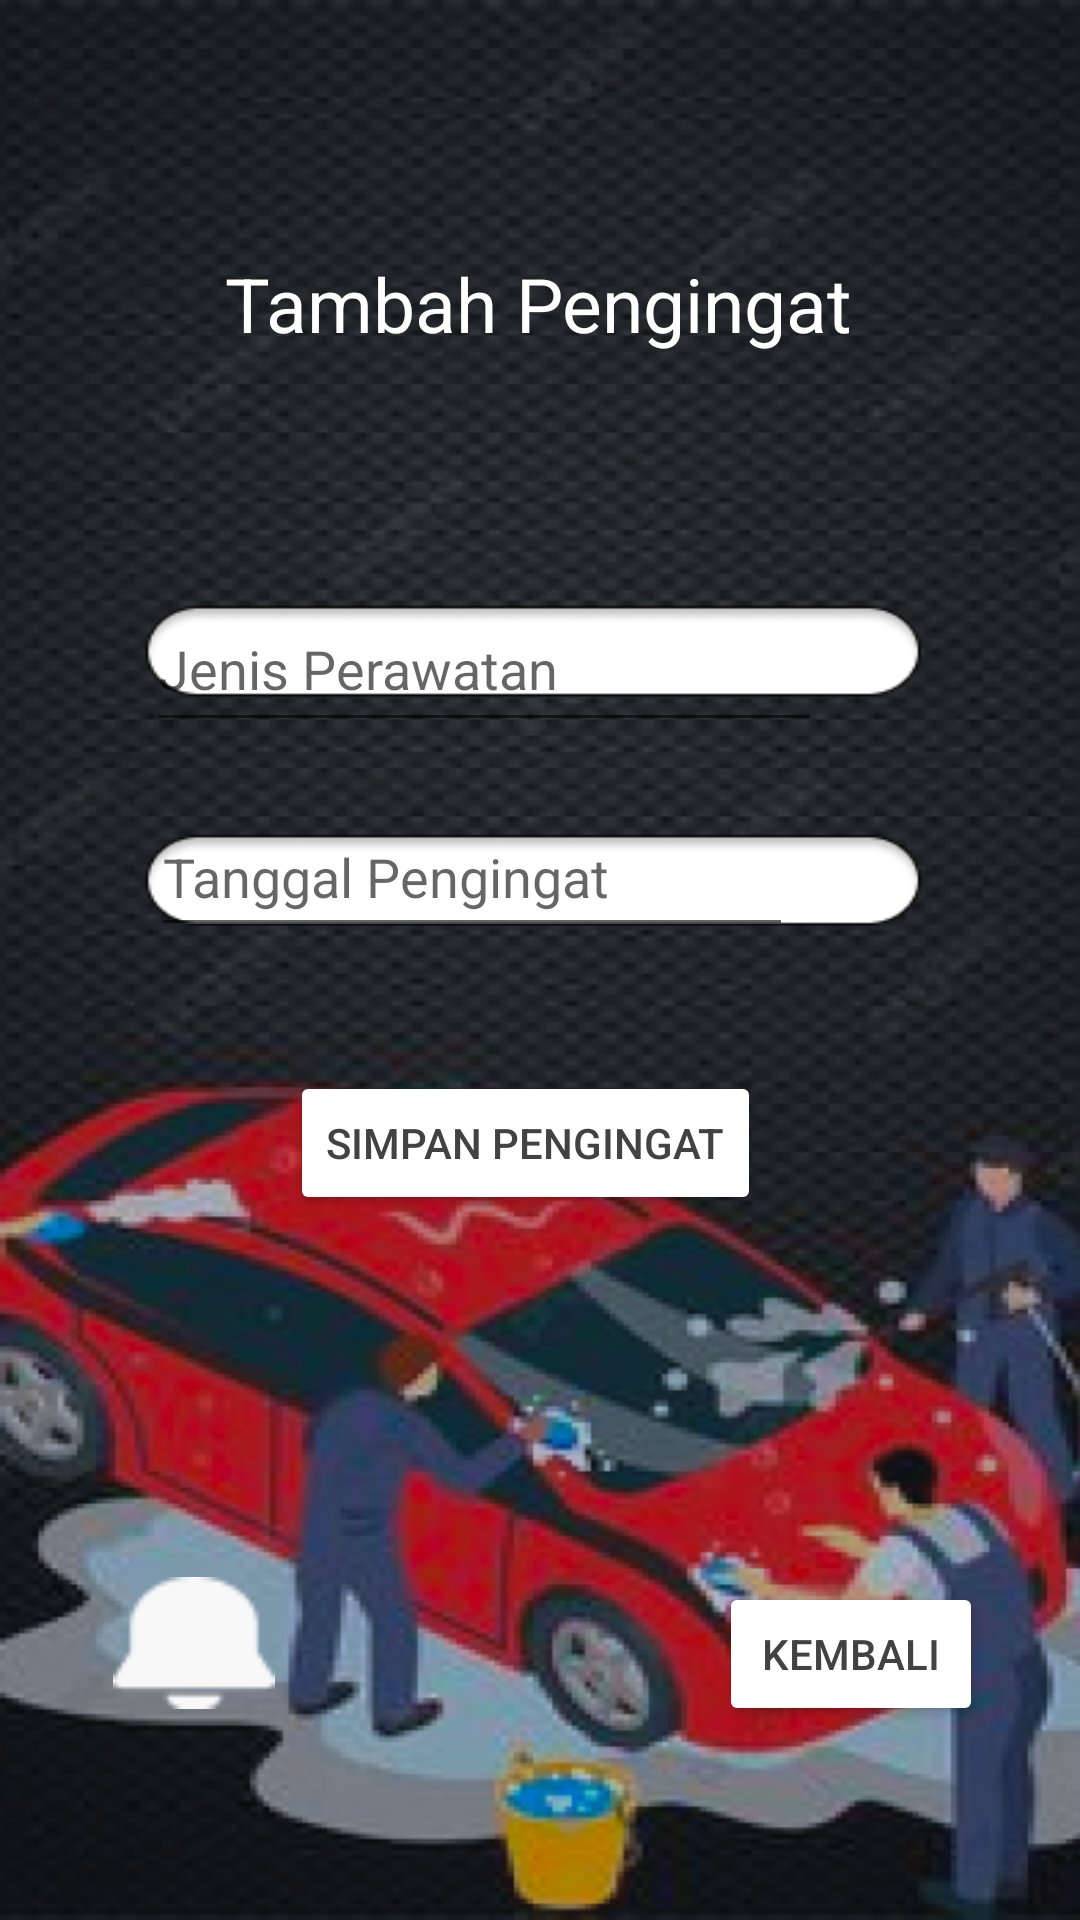

Icons on this 1080px×1920px Android screen, each with the point to tap as (x,y):
notification: (194,1643)
